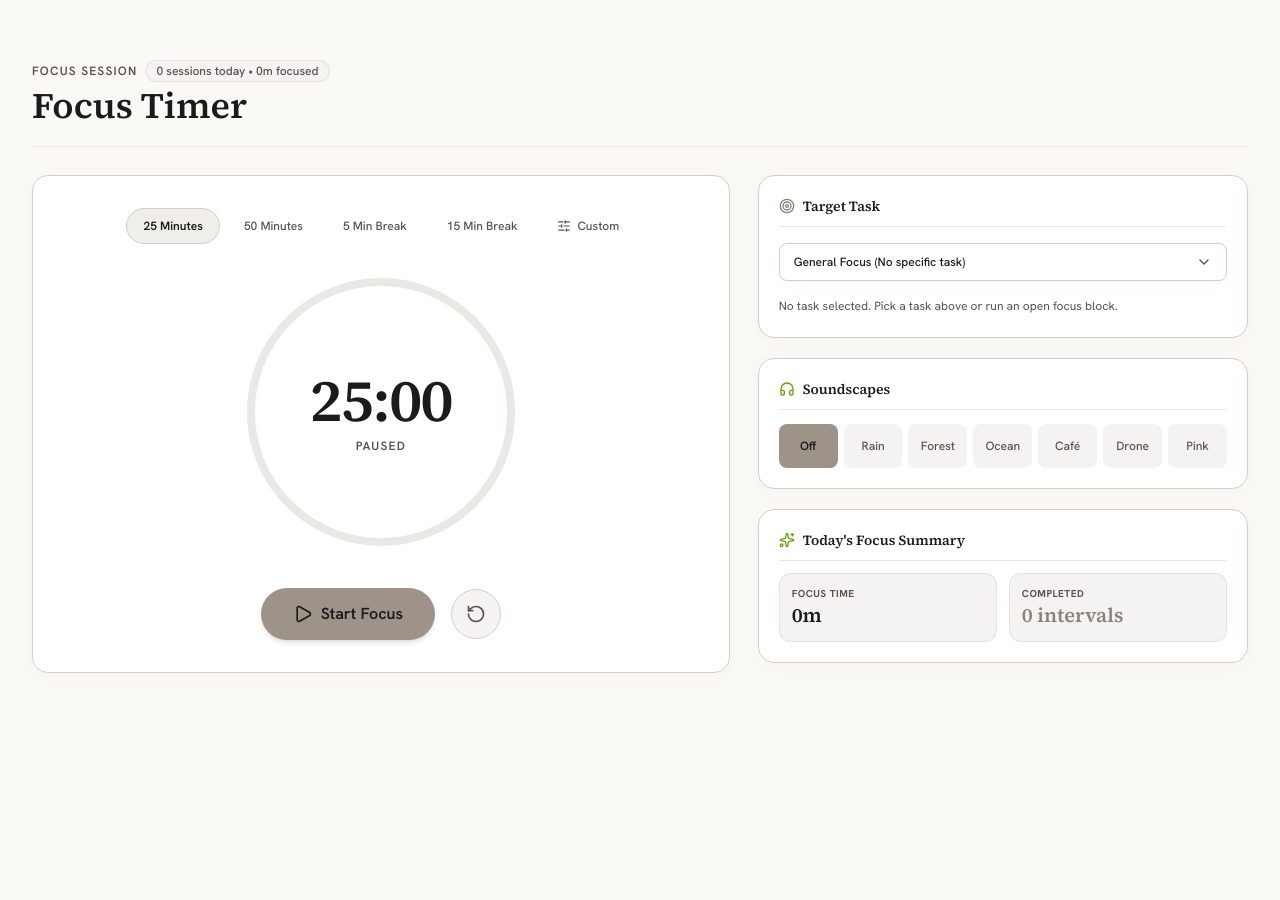
it: FocusView Component › allows setting custom focus timer with hours, minutes, and seconds
Click Custom
Click the button "Custom" at (588, 226), box [541,208,635,244]
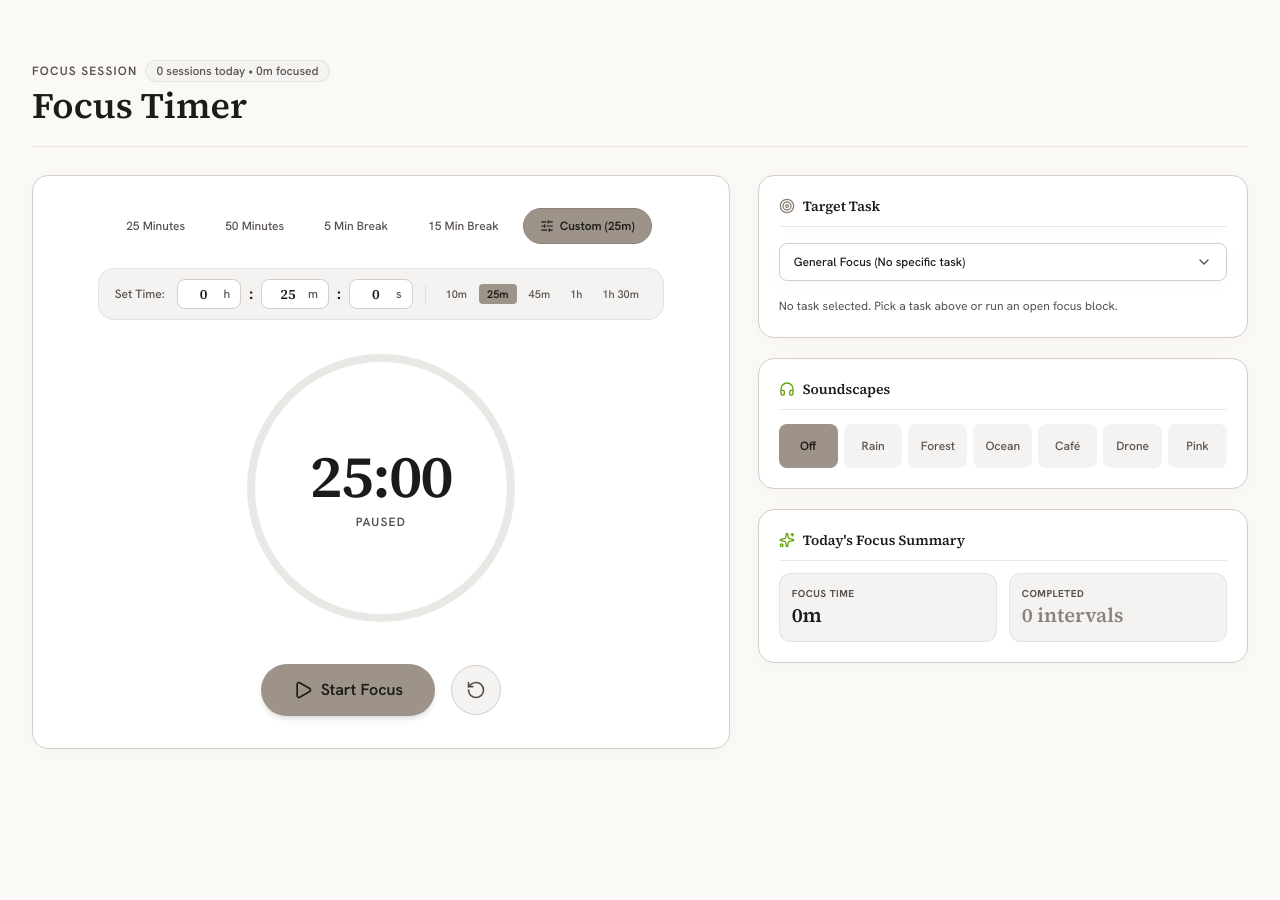
Expected: the text "Set Time:" is shown, [115,286,165,302]
Click 1h quick preset
Click the button "1h" at (576, 294), box [562,284,590,304]
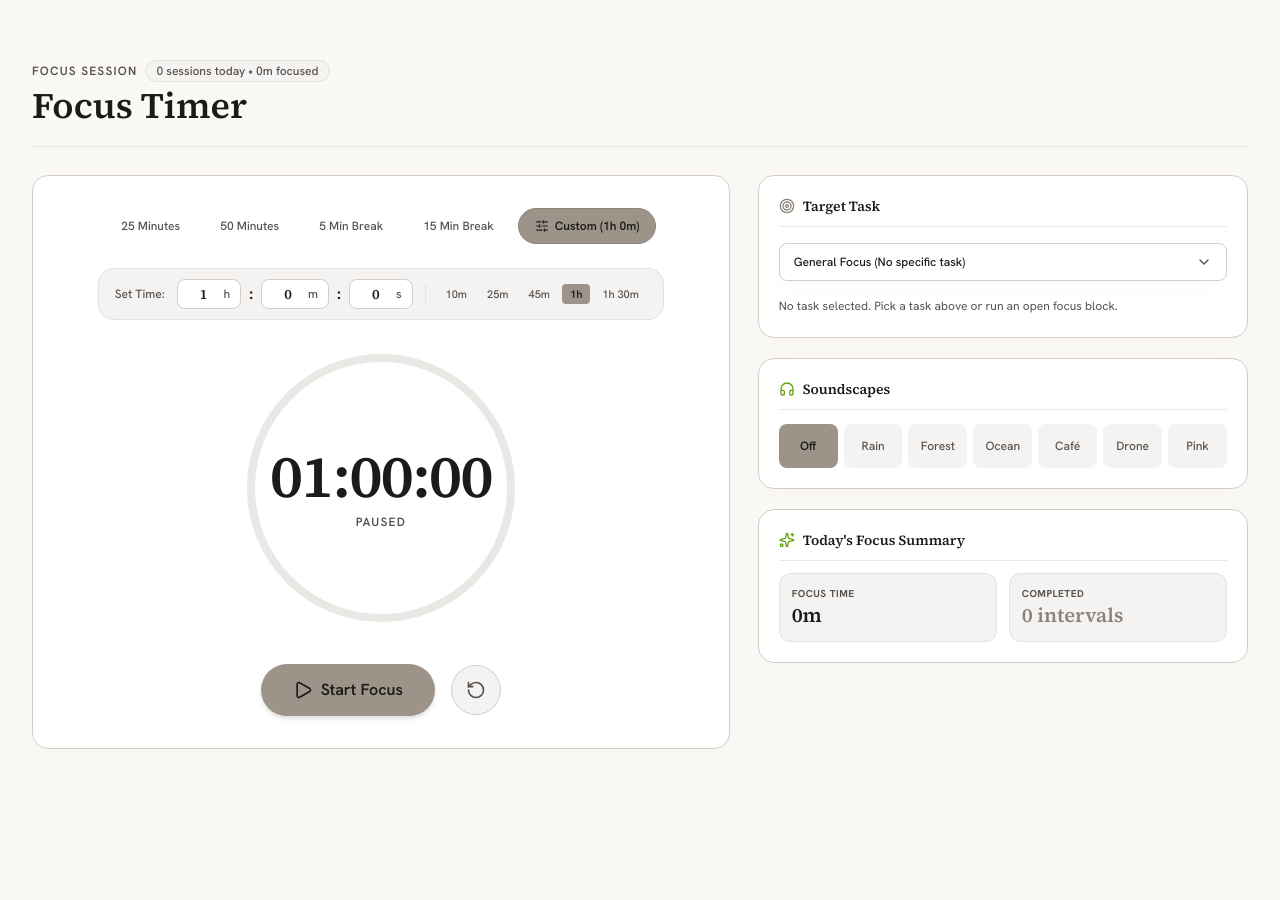
Expected: the text "01:00:00" is shown, [270,446,492,506]
Change seconds to 30
Replace the text in the number field named "Custom focus duration seconds" with "30" at (376, 294), box [360,284,392,304]
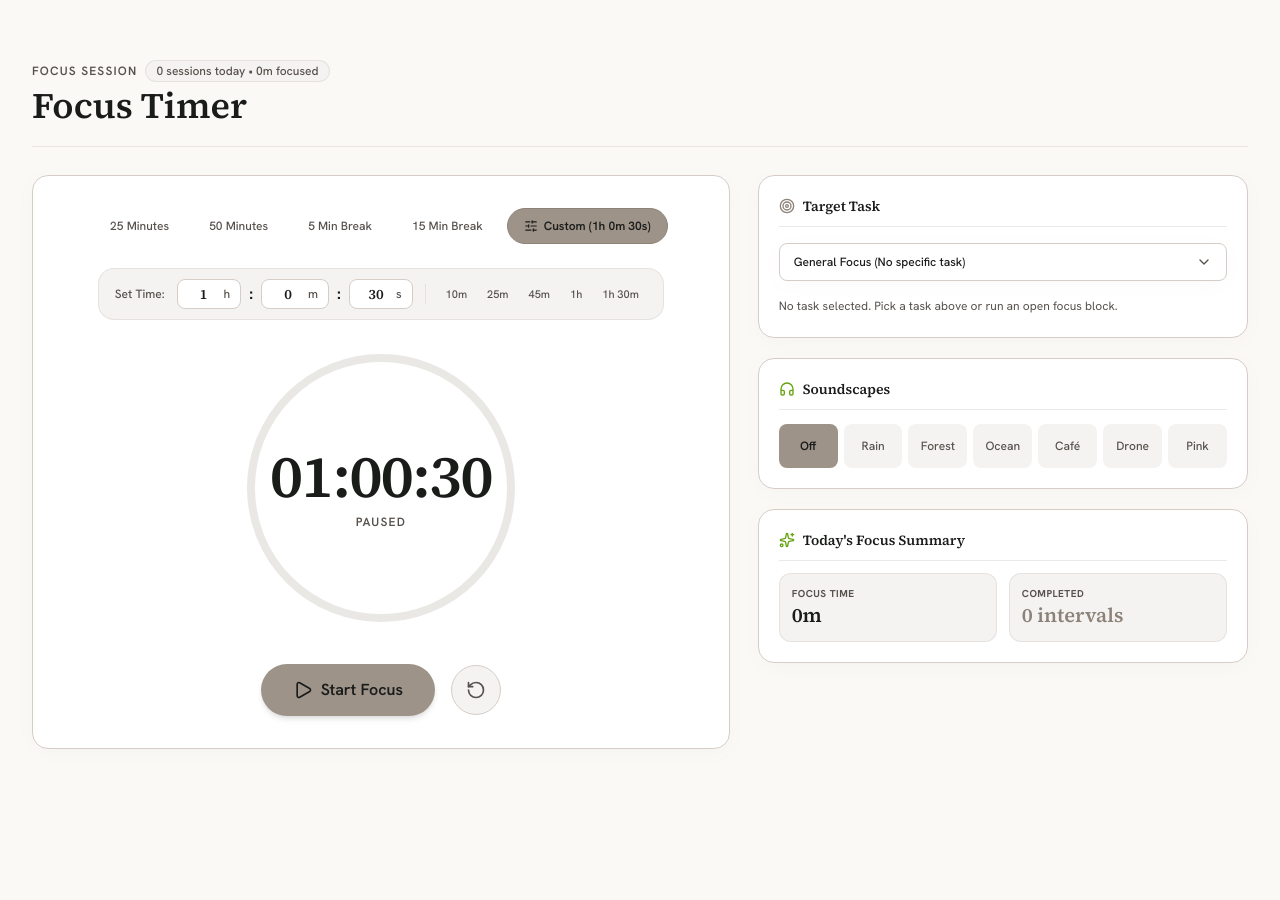
Expected: the text "01:00:30" is shown, [270,446,492,506]
